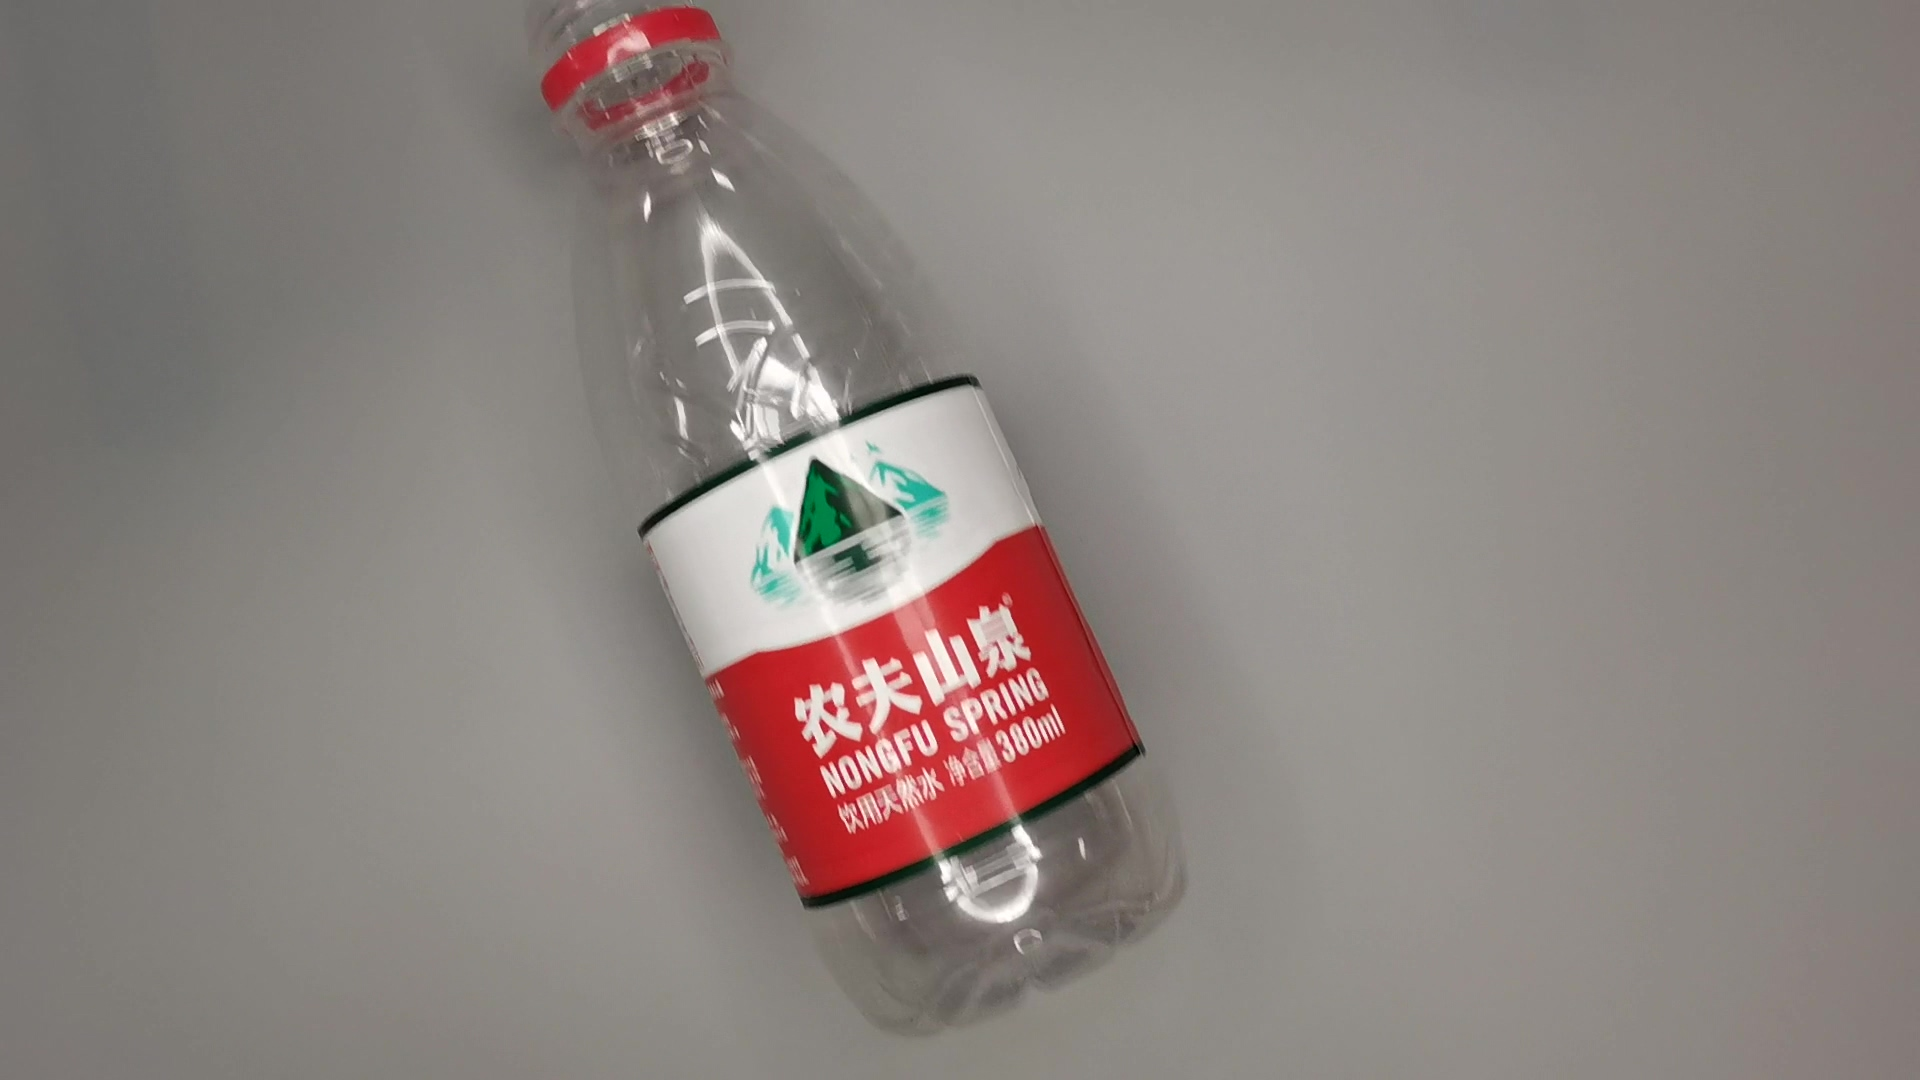bottle: (506, 1, 1192, 1039)
